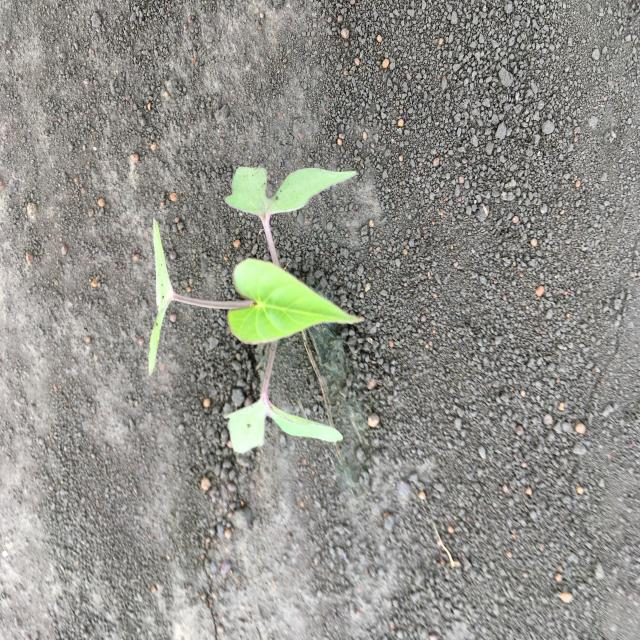MorningGlory: (146, 163, 362, 456)
